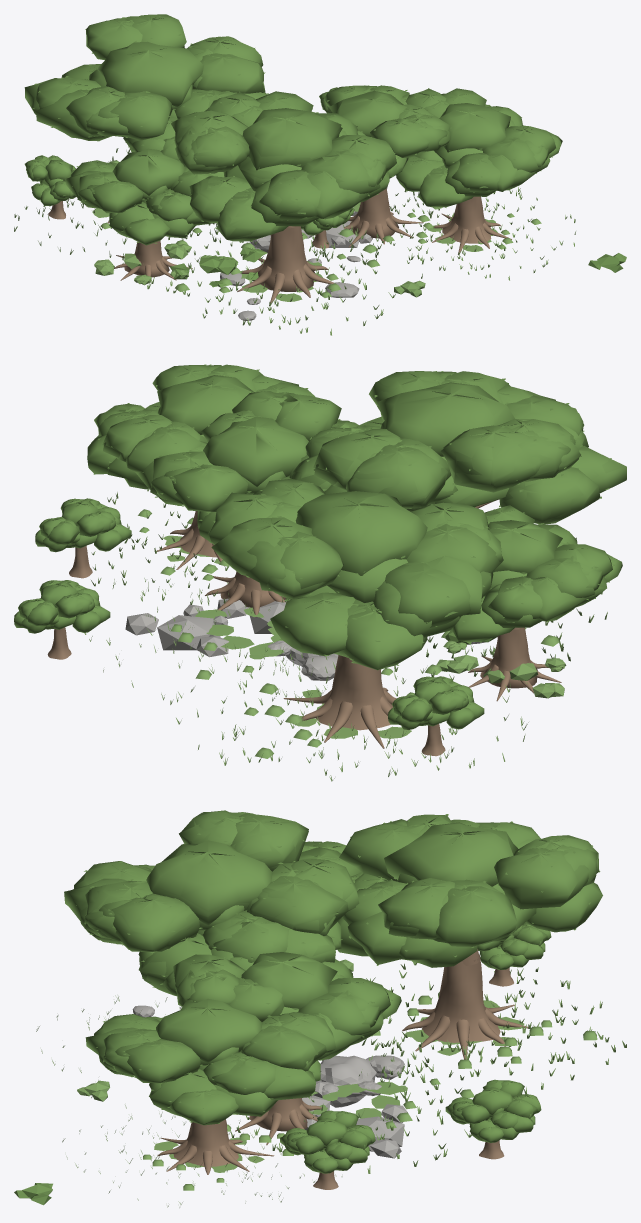
Rendered from floresta.glb.
The picture shows the model from 3 angles, top to bottom: view 1: azimuth 30°, elevation 25°; view 2: azimuth 150°, elevation 25°; view 3: azimuth 270°, elevation 25°; orthographic projection. The views are drawn at different scales.
Visible parts, largest first — view 1: Floresta; view 2: Floresta; view 3: Floresta.
Part boxes in pixels (x1,y1,x2,y2): Floresta: (14, 14, 626, 335); Floresta: (14, 364, 626, 781); Floresta: (14, 810, 626, 1207).
Bounding box in the file's own units: 33 × 13.25 × 33.05.
